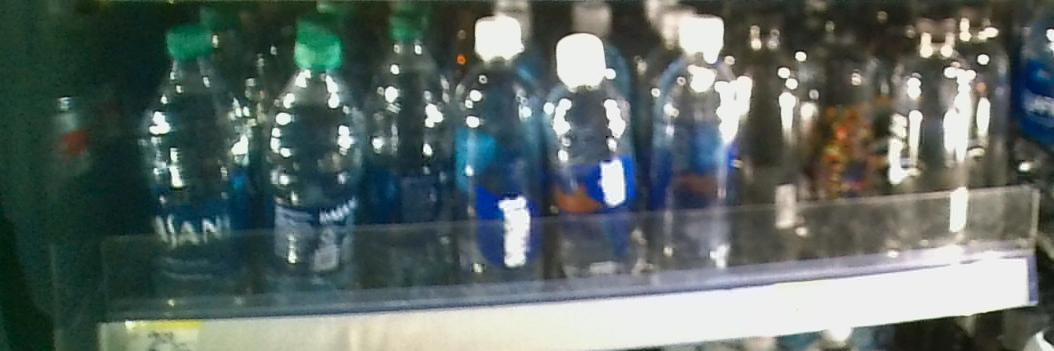bottle: (133, 23, 252, 311), (264, 24, 358, 299), (547, 33, 649, 286), (655, 10, 746, 285), (368, 9, 454, 295), (459, 13, 544, 283)
